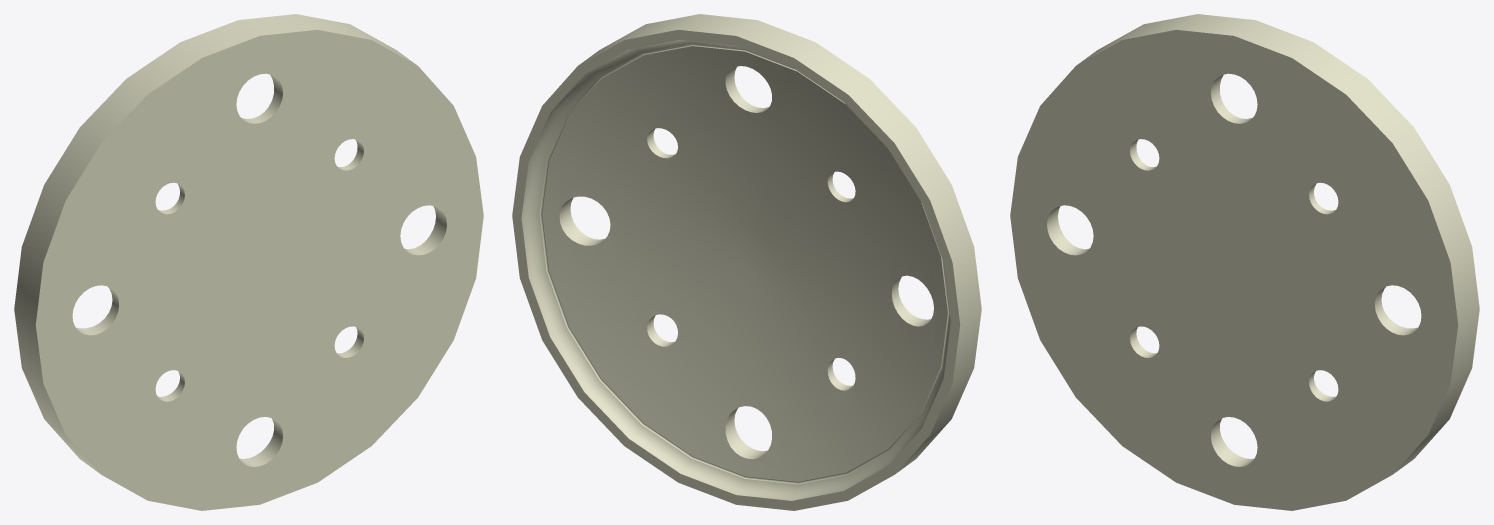
Rendered from original-6.obj.
3 renders of one model, left to right at view 1: azimuth 30°, elevation 25°; view 2: azimuth 150°, elevation 25°; view 3: azimuth 330°, elevation 25°, orthographic.
Parts seen in each view (by area): view 1: WHEEL_1_1/WHEEL_1/mesh1/mesh1-geometry#mesh1-geometry; view 2: WHEEL_1_1/WHEEL_1/mesh1/mesh1-geometry#mesh1-geometry; view 3: WHEEL_1_1/WHEEL_1/mesh1/mesh1-geometry#mesh1-geometry.
Boxes of the visible parts, x1,y1,x2,y2 form: WHEEL_1_1/WHEEL_1/mesh1/mesh1-geometry#mesh1-geometry: [14, 14, 483, 510]; WHEEL_1_1/WHEEL_1/mesh1/mesh1-geometry#mesh1-geometry: [512, 14, 981, 510]; WHEEL_1_1/WHEEL_1/mesh1/mesh1-geometry#mesh1-geometry: [1010, 14, 1479, 510].
Bounding box in the file's own units: 0.0833 × 0.0833 × 0.00695.
